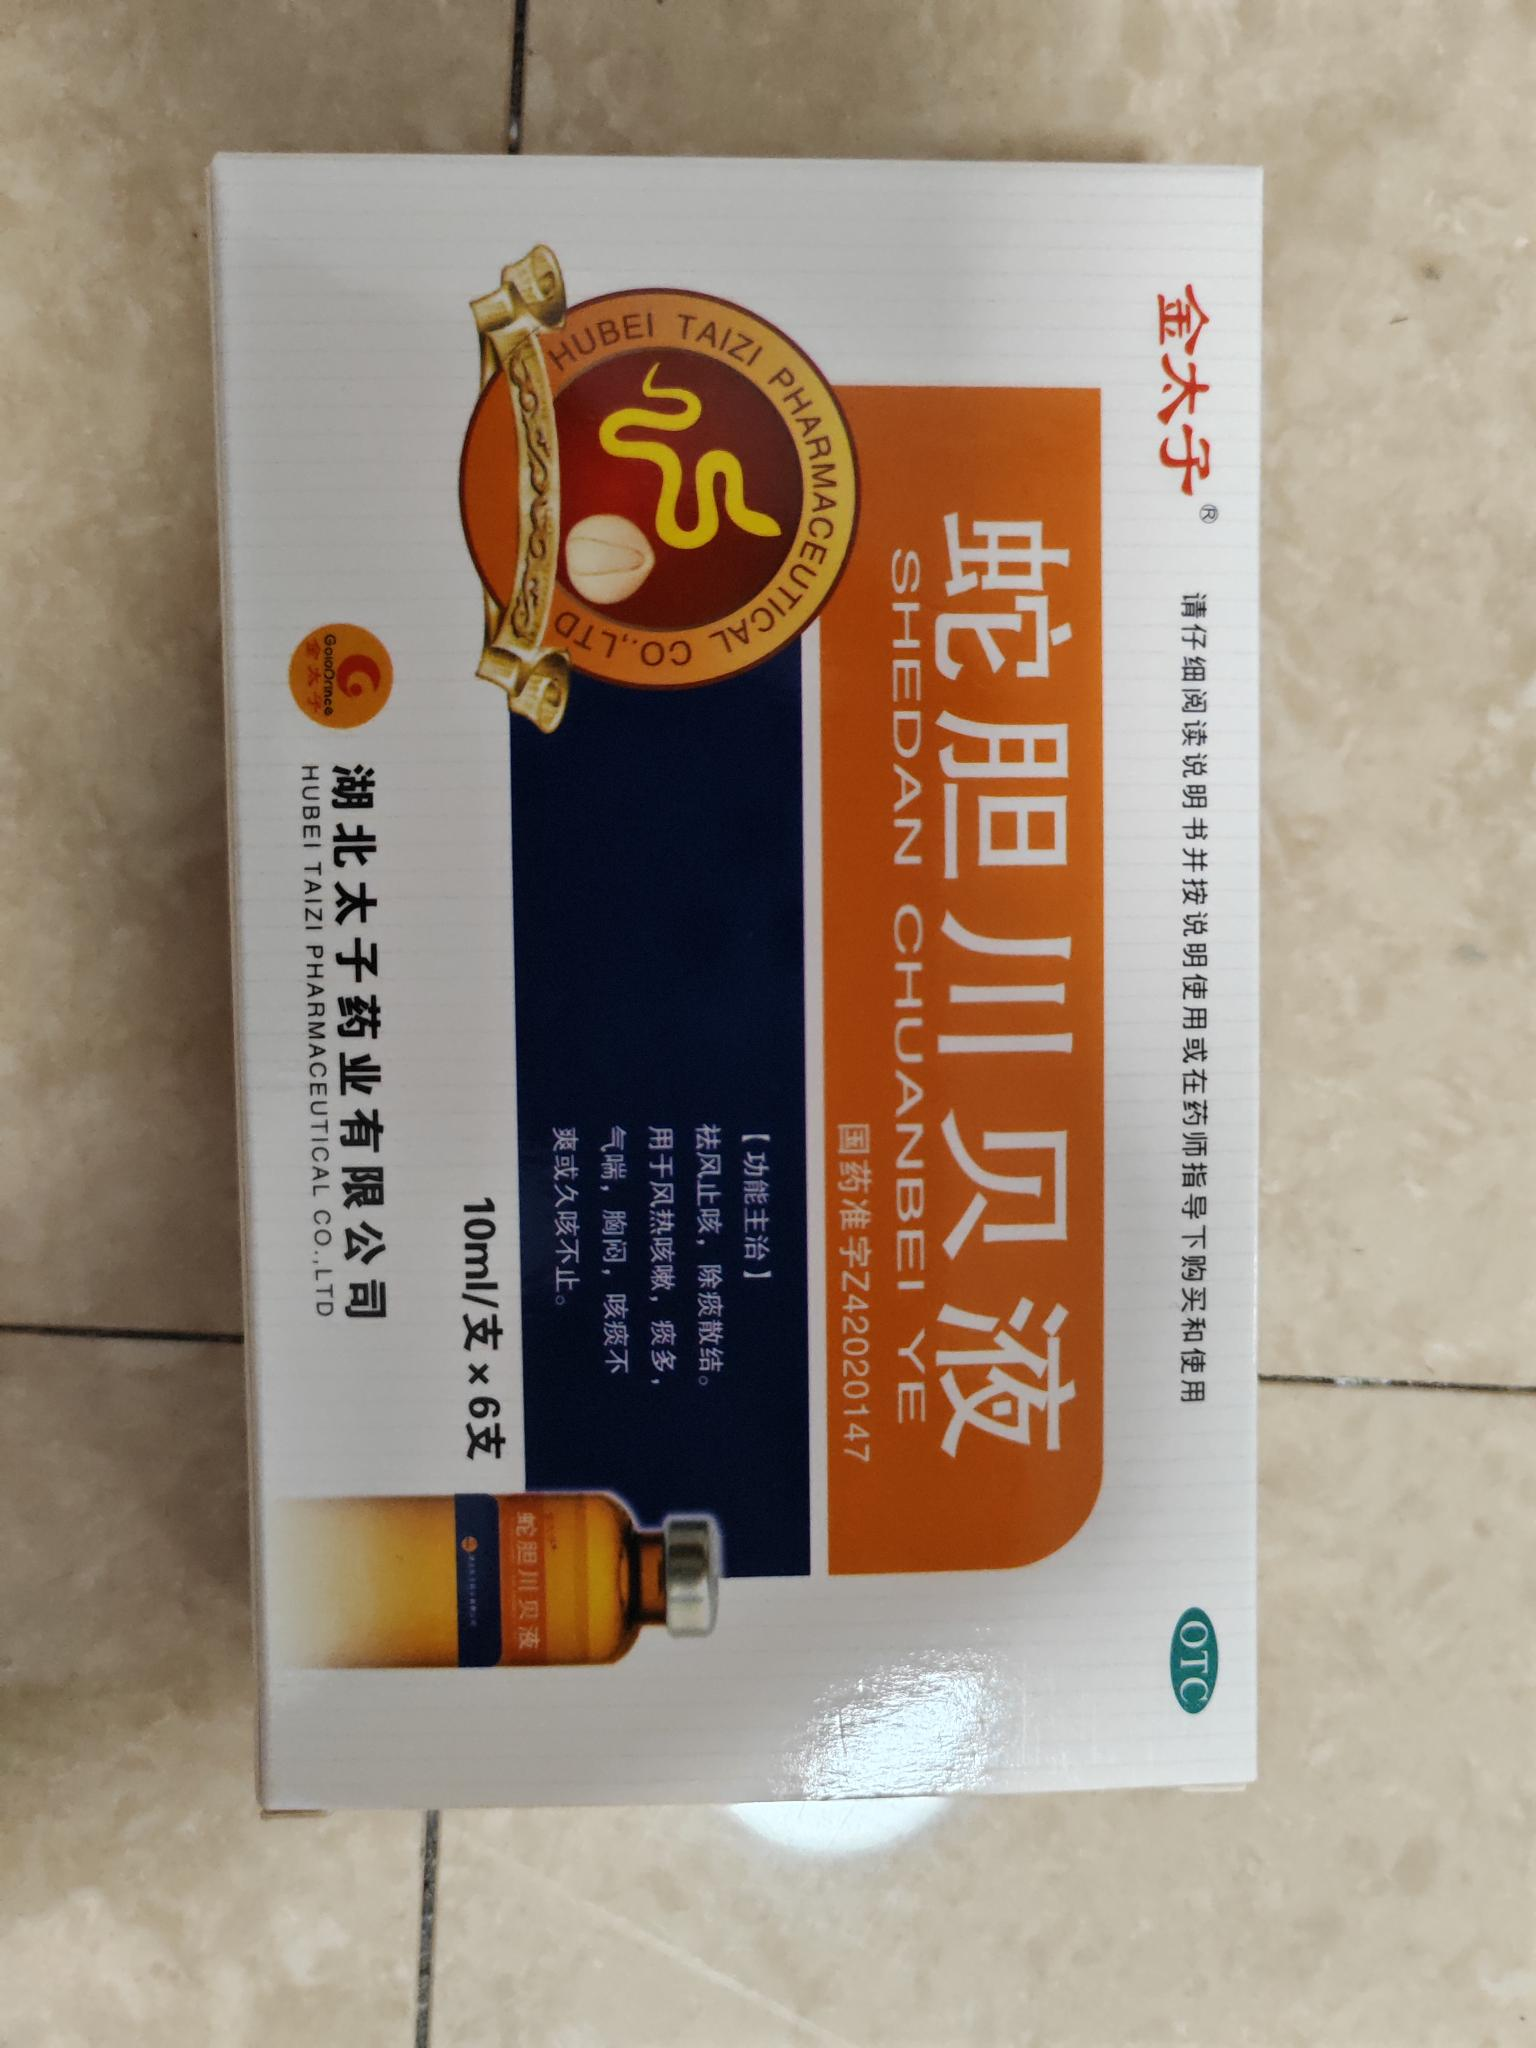Medicine5: (118, 245, 1536, 1356)
